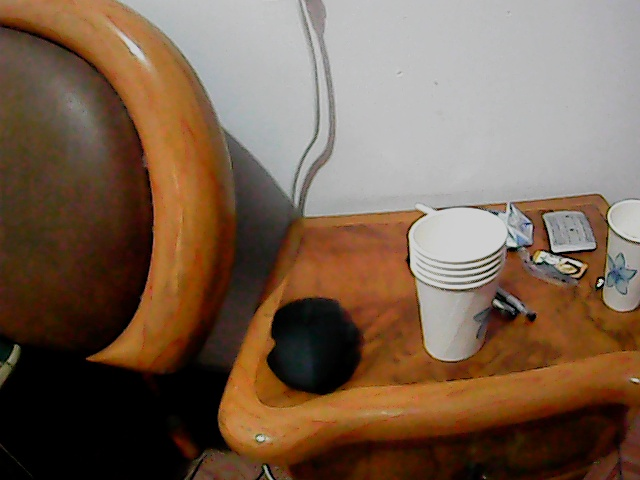cup: (405, 203, 507, 365)
mouse: (264, 293, 362, 400)
